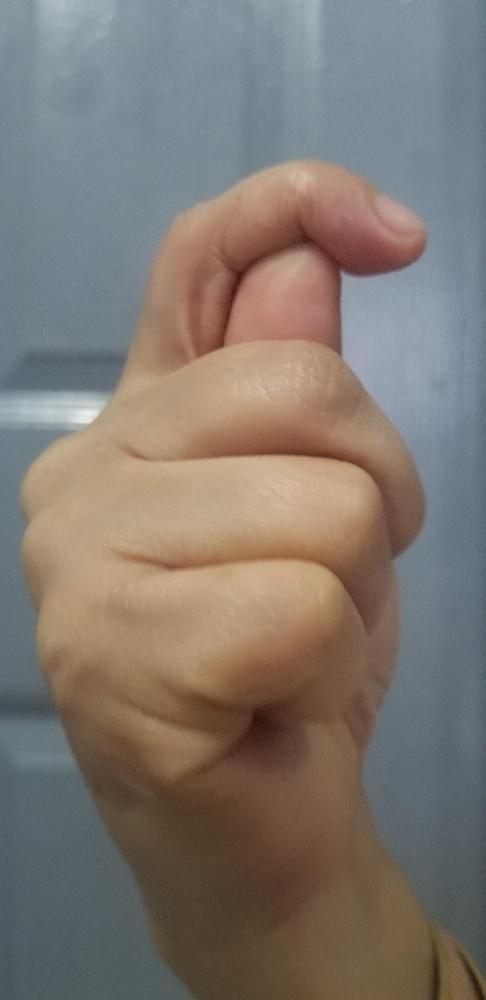t: (17, 158, 430, 857)
